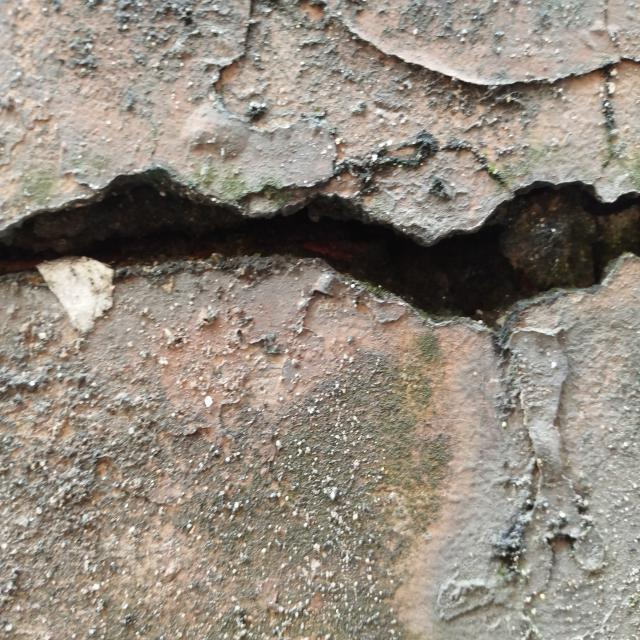horizontal crack: (0, 177, 639, 318)
